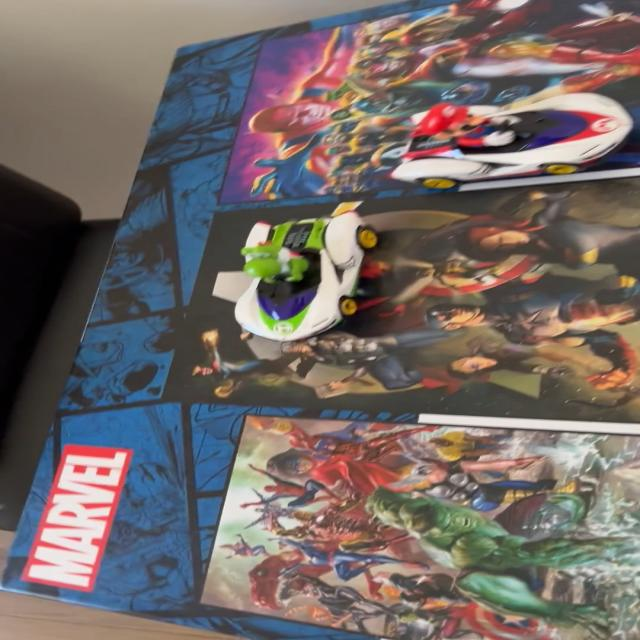mario: (373, 92, 640, 198)
yoshi: (199, 199, 392, 357)
